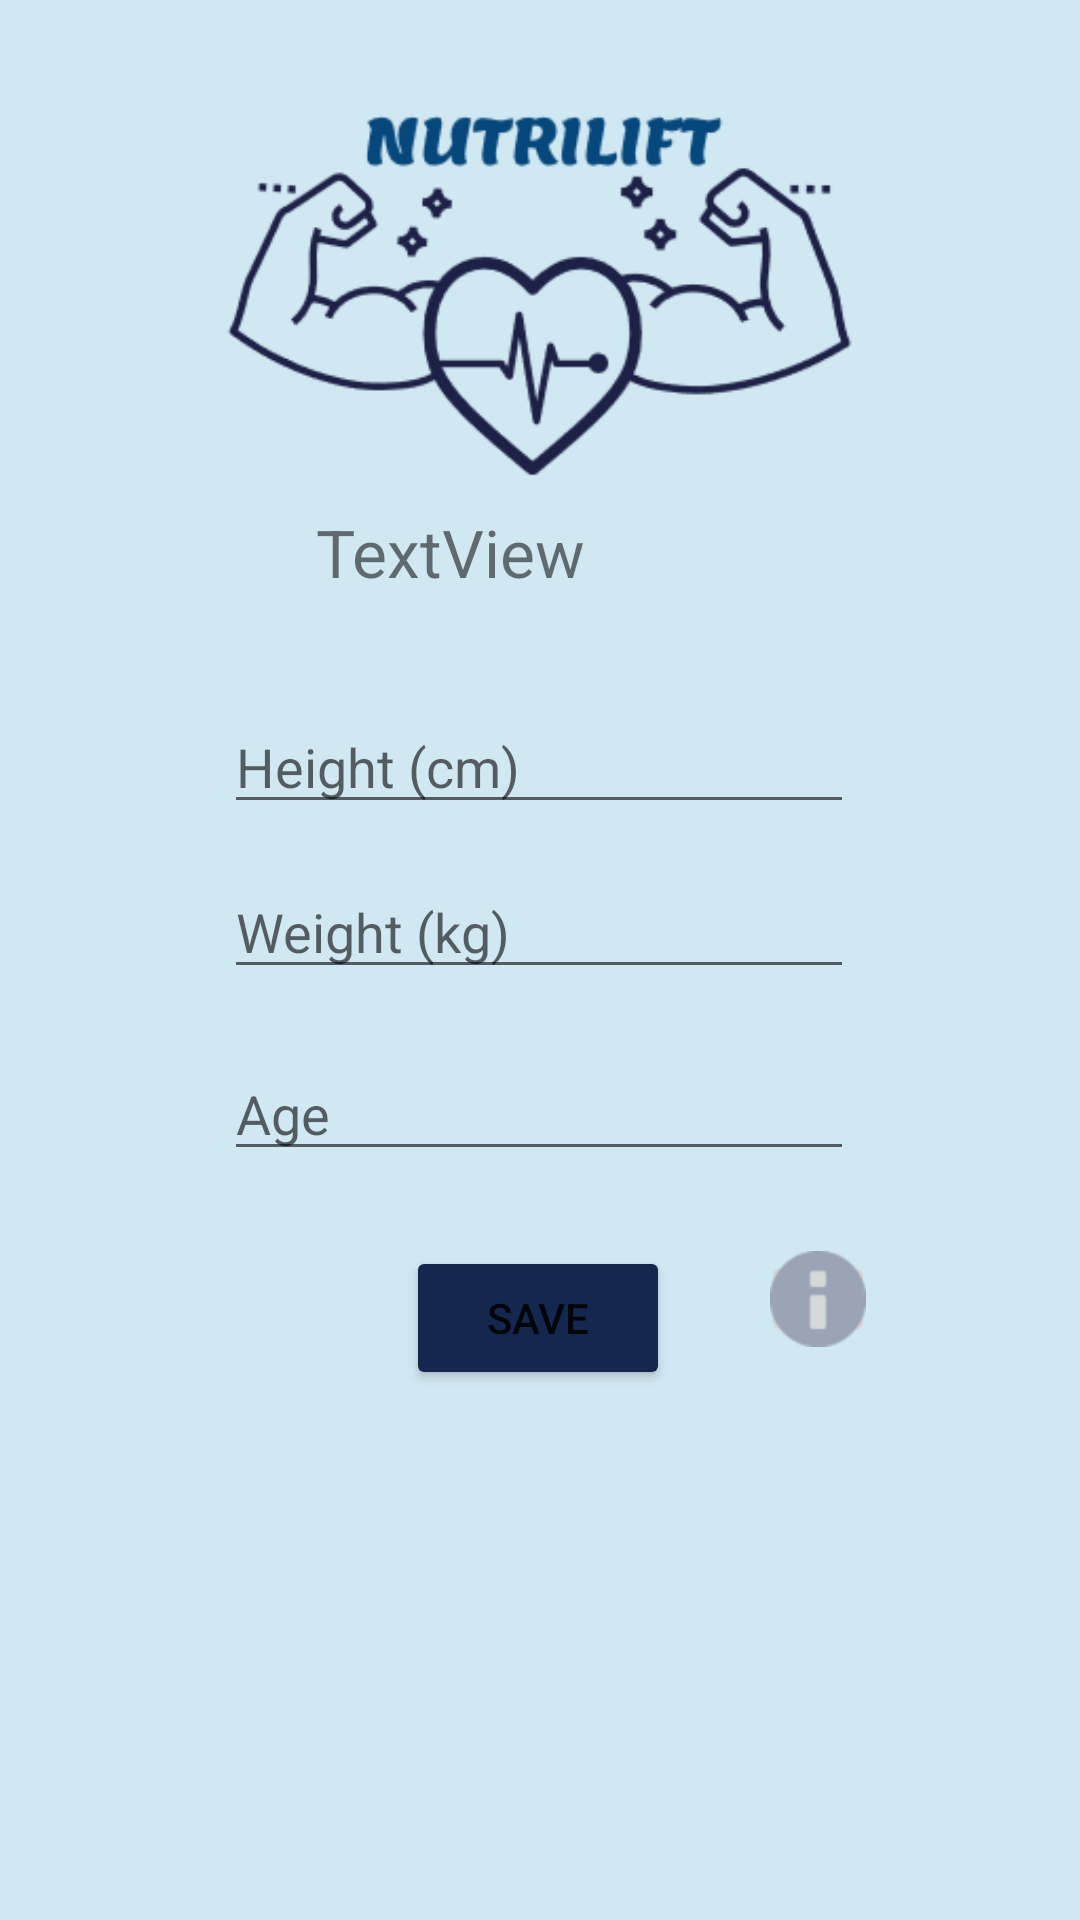

Screen size 1080 x 1920. Icon name, then its center in pixels as [x,y]:
info: [818,1299]
